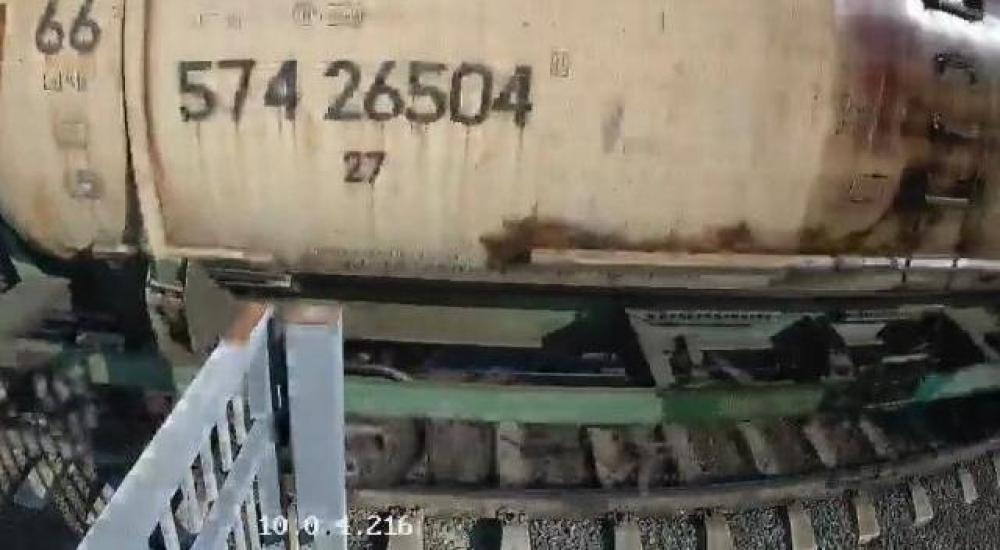Wagon-number: (175, 52, 534, 134)
